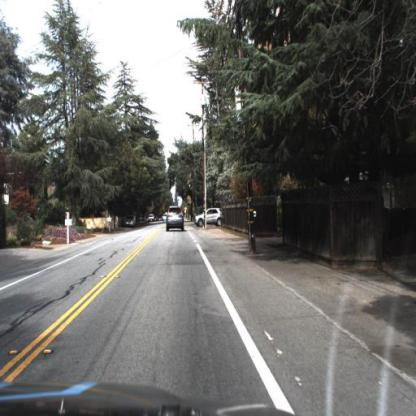car: (195, 206, 225, 229), (166, 204, 186, 234)
